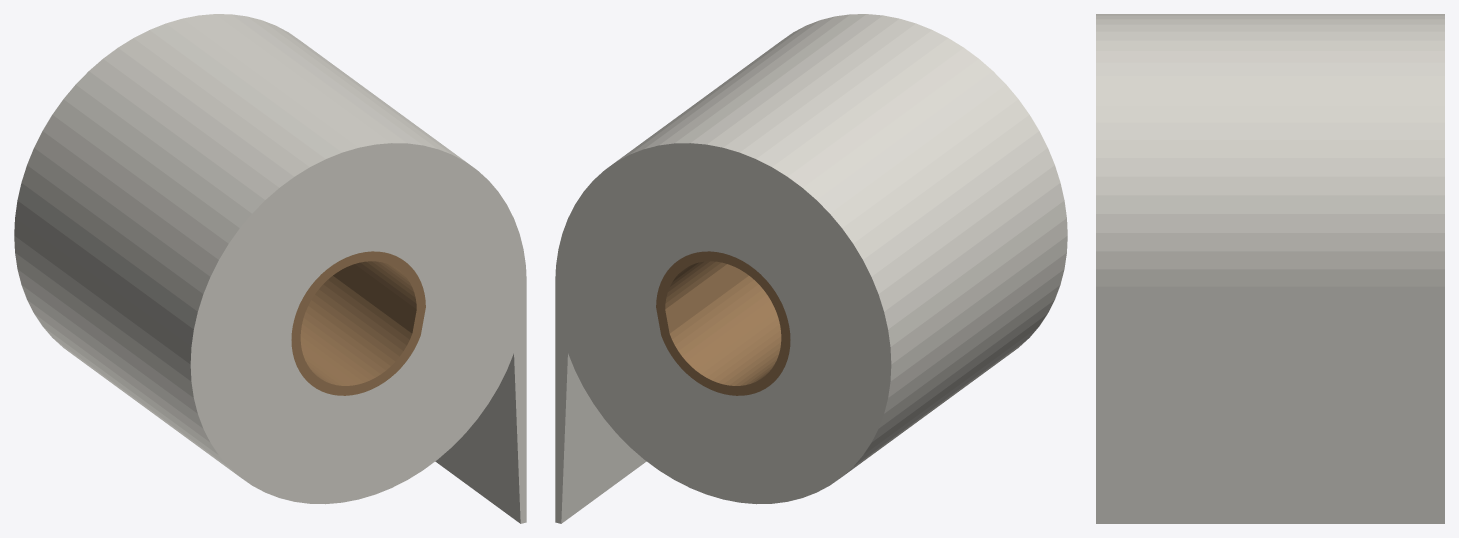
Rendered from NEW_RECOVERY_033_LOD1.glb.
3 renders of one model, left to right at view 1: azimuth 30°, elevation 25°; view 2: azimuth 150°, elevation 25°; view 3: azimuth 270°, elevation 25°, orthographic.
Visible parts, largest first — view 1: Toilet_paper_roll; view 2: Toilet_paper_roll; view 3: Toilet_paper_roll.
Boxes of the visible parts, <box> form: Toilet_paper_roll: <box>14,14,526,523</box>; Toilet_paper_roll: <box>555,14,1067,523</box>; Toilet_paper_roll: <box>1096,14,1444,523</box>.
Size of the model in its own units: 0.11 by 0.13 by 0.1.
